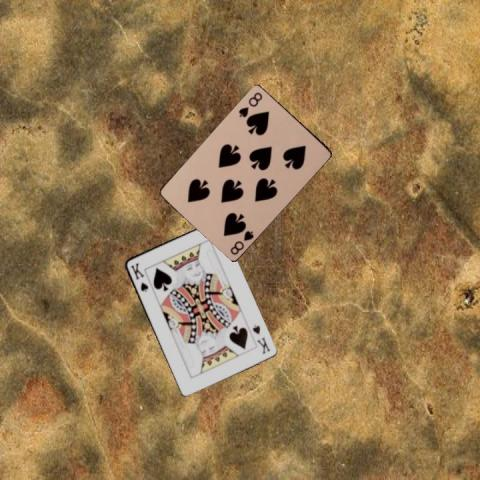8s: (236, 88, 264, 118), (228, 227, 256, 256)
Ks: (250, 322, 272, 356), (128, 260, 149, 293)
